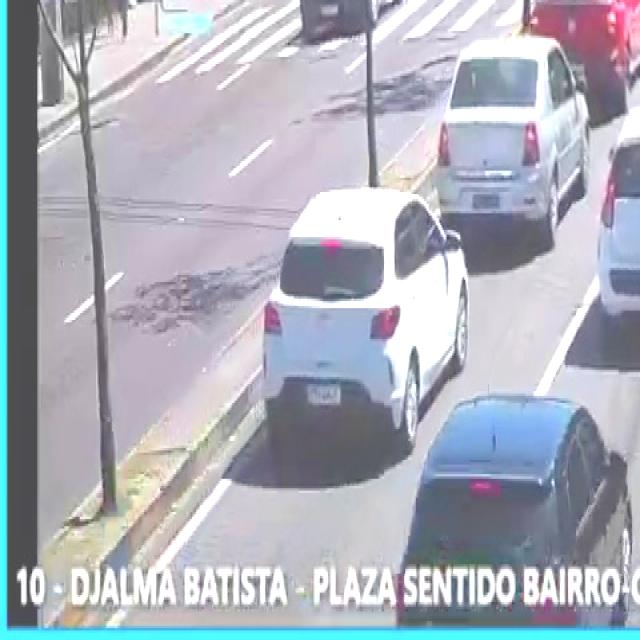car: (391, 372, 632, 640), (258, 180, 477, 458), (432, 34, 592, 250), (590, 92, 640, 338), (525, 0, 640, 102), (297, 0, 407, 40)
